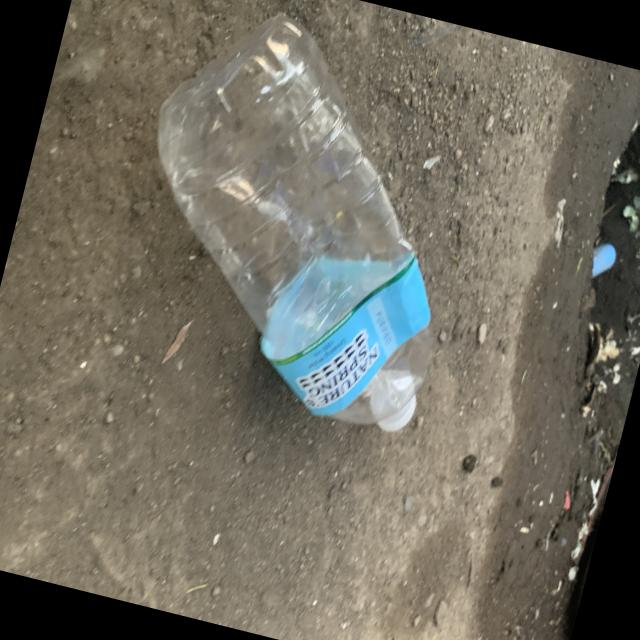Bottle: (157, 15, 429, 431)
